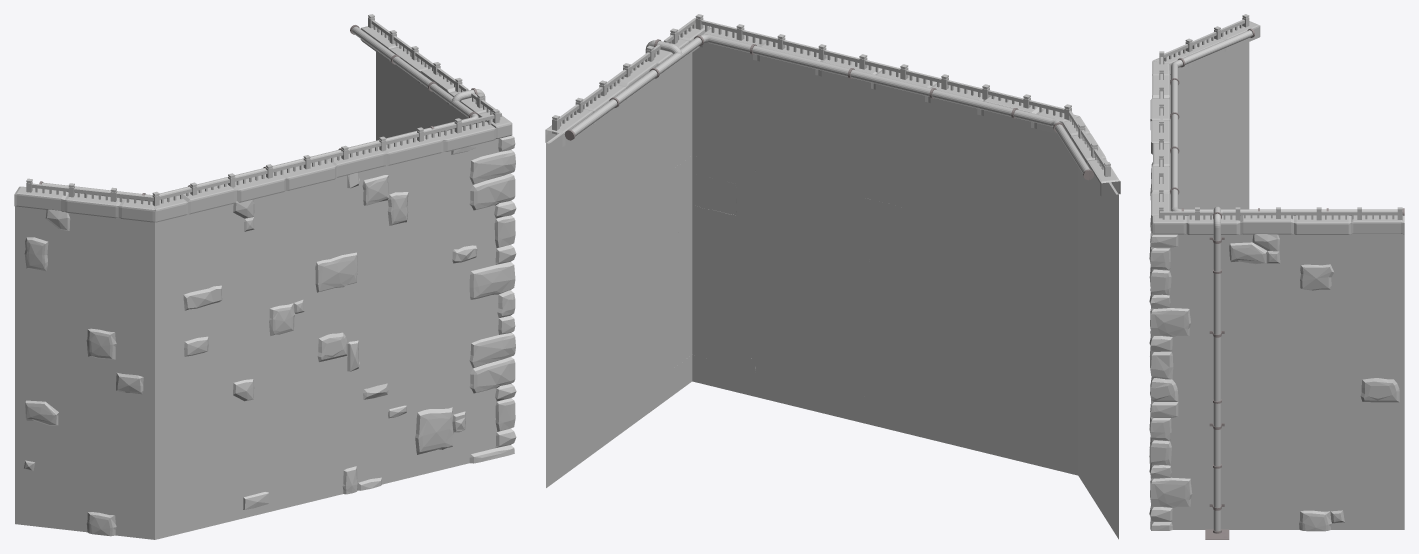
Rendered from SM_ENV_KNVLLG_Wall_07.mo.fbx.
The picture shows the model from 3 angles, left to right: view 1: azimuth 30°, elevation 25°; view 2: azimuth 150°, elevation 25°; view 3: azimuth 270°, elevation 25°; orthographic projection. The views are drawn at different scales.
Parts seen in each view (by area): view 1: SM_ENV_KNVLLG_Wall_07.mo; view 2: SM_ENV_KNVLLG_Wall_07.mo; view 3: SM_ENV_KNVLLG_Wall_07.mo.
Part boxes in pixels (<box>): SM_ENV_KNVLLG_Wall_07.mo: <box>14,14,516,539</box>; SM_ENV_KNVLLG_Wall_07.mo: <box>545,14,1120,539</box>; SM_ENV_KNVLLG_Wall_07.mo: <box>1149,14,1404,539</box>.
Bounding box in the file's own units: 21.04 × 14.73 × 10.69.
